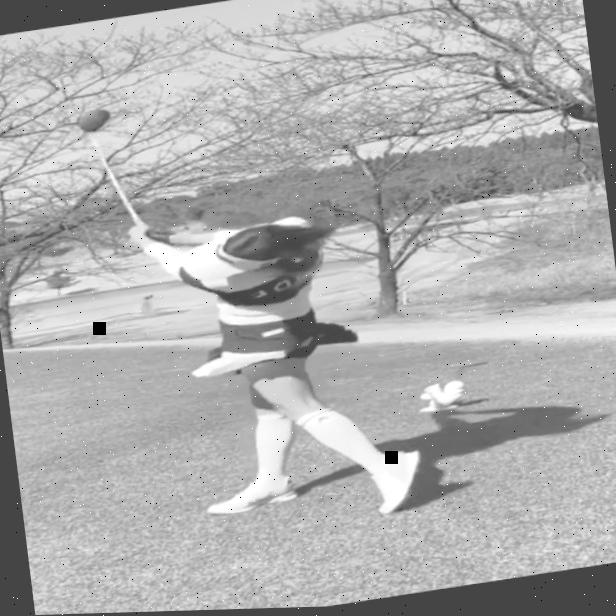ClubHead: (75, 108, 112, 134)
